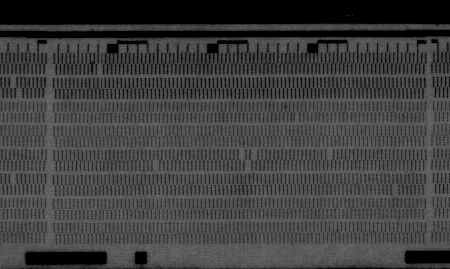Broken hole: (236, 148, 261, 173), (8, 76, 24, 101), (324, 148, 336, 162), (8, 173, 20, 186), (95, 64, 107, 77), (388, 184, 400, 196), (150, 161, 161, 173)
Oblique printing: (290, 111, 302, 124)
